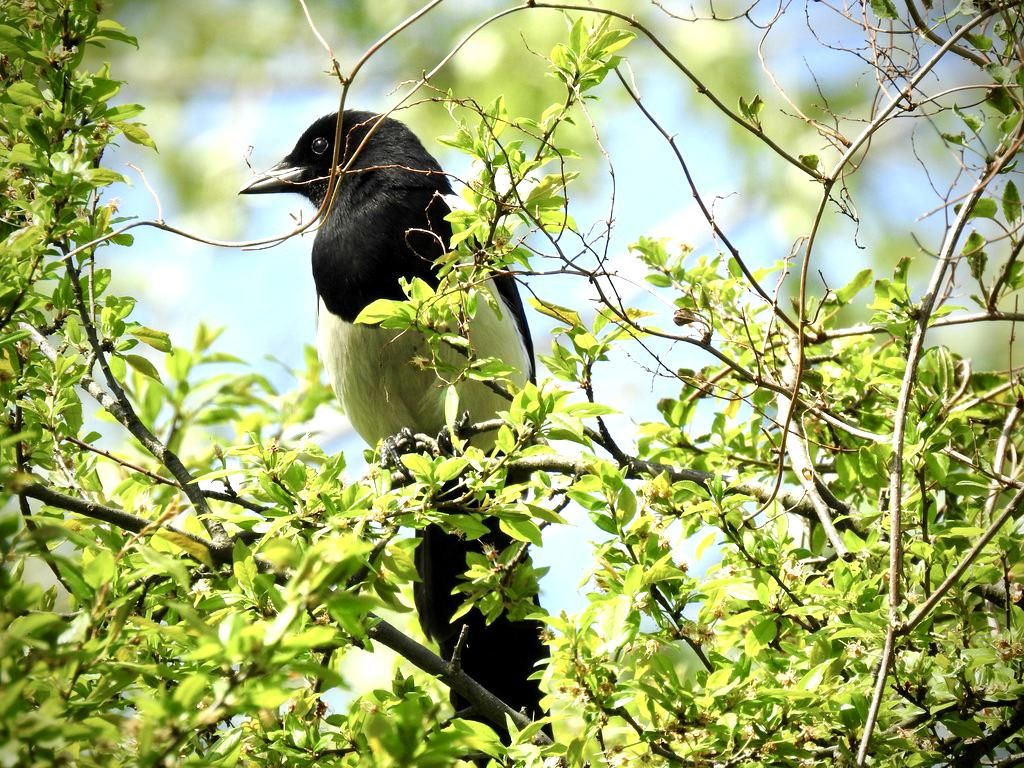PicaPica: (238, 107, 553, 768)
